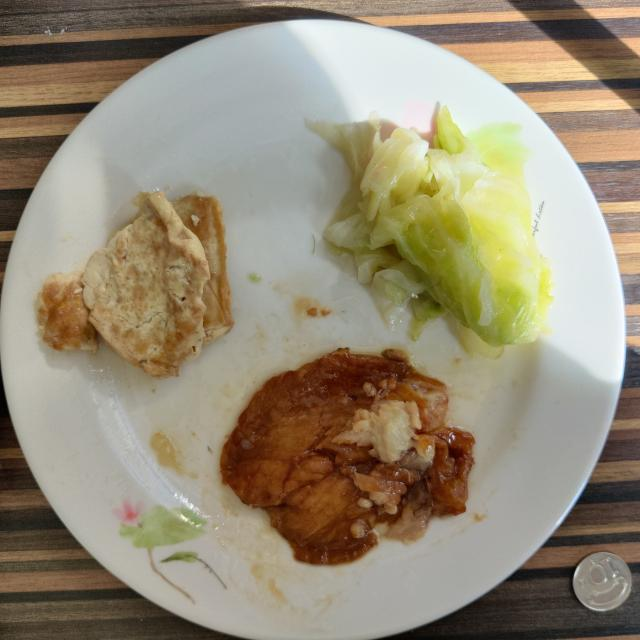Kabayaki sea bream fillet: (220, 349, 474, 565)
cabbage: (306, 106, 552, 359)
coin: (572, 552, 631, 611)
